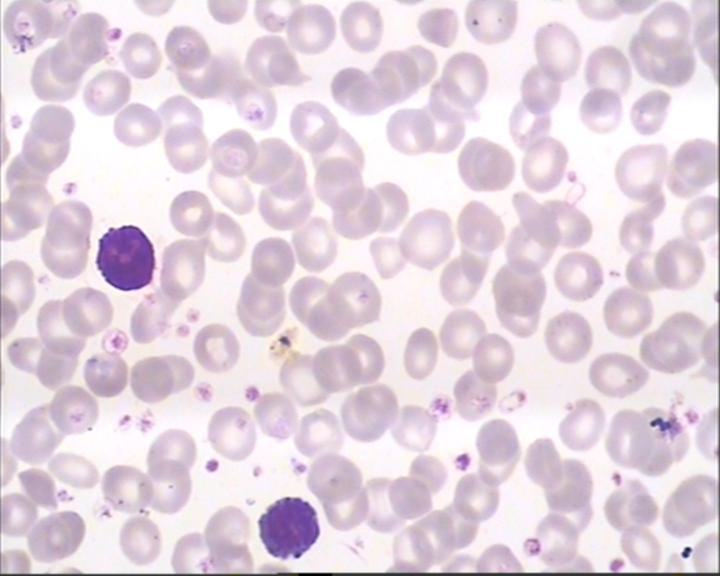baso: (254, 490, 322, 562), (93, 222, 159, 293)
